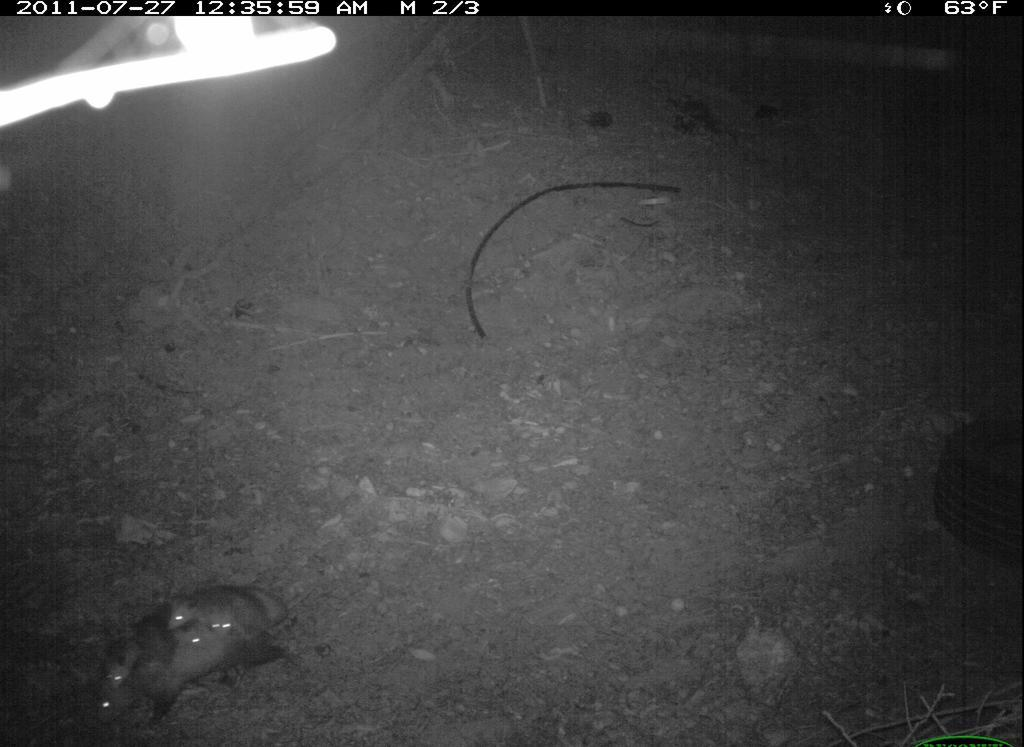opossum: (180, 621, 232, 654)
